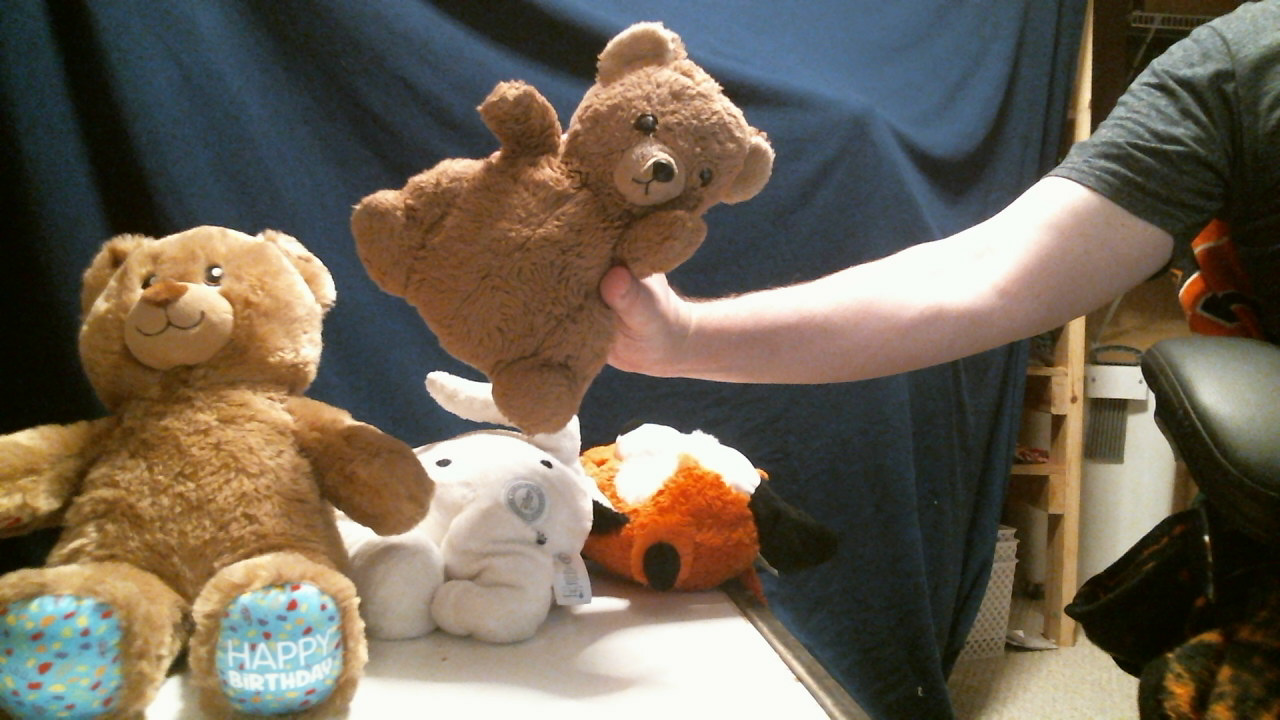Little_Mister_Bear: (602, 109, 721, 212)
